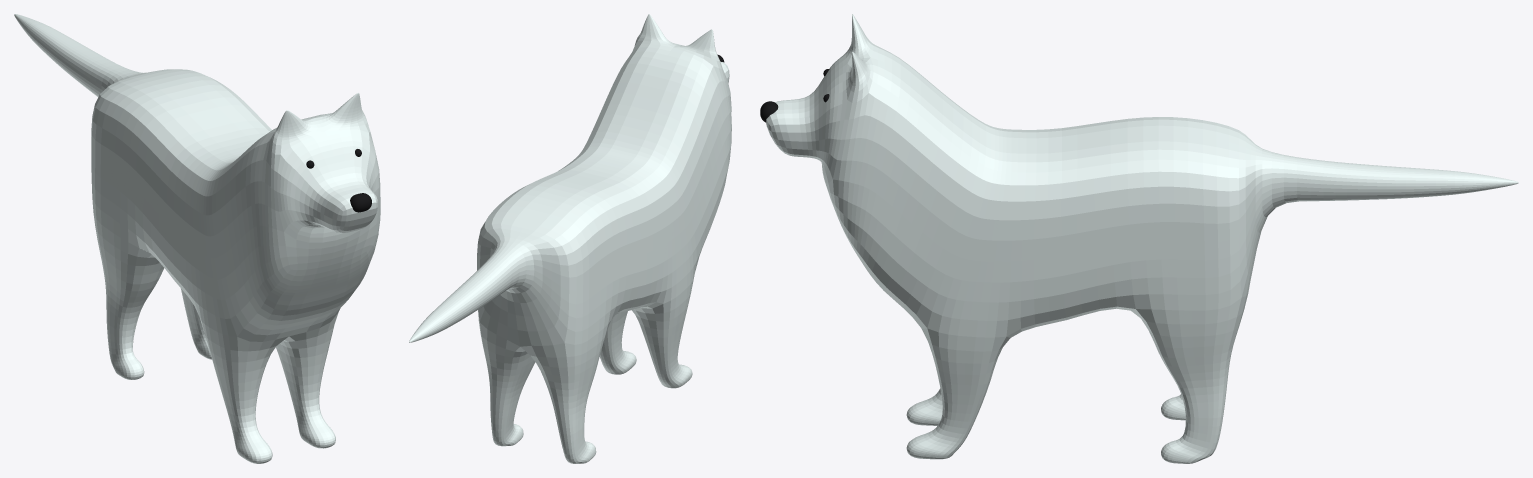
Rendered from wolf_4e9a40bb.glb.
The picture shows the model from 3 angles, left to right: view 1: azimuth 30°, elevation 25°; view 2: azimuth 150°, elevation 25°; view 3: azimuth 270°, elevation 25°; orthographic projection. The views are drawn at different scales.
Parts seen in each view (by area): view 1: Cube.001; view 2: Cube.001; view 3: Cube.001.
Boxes of the visible parts, left/top/right/bottom form: Cube.001: left=14, top=14, right=380, bottom=463; Cube.001: left=409, top=14, right=731, bottom=463; Cube.001: left=760, top=14, right=1518, bottom=463.
Size of the model in its own units: 2 by 6.09 by 10.3.
Materials: 1 (1 with a texture image).
